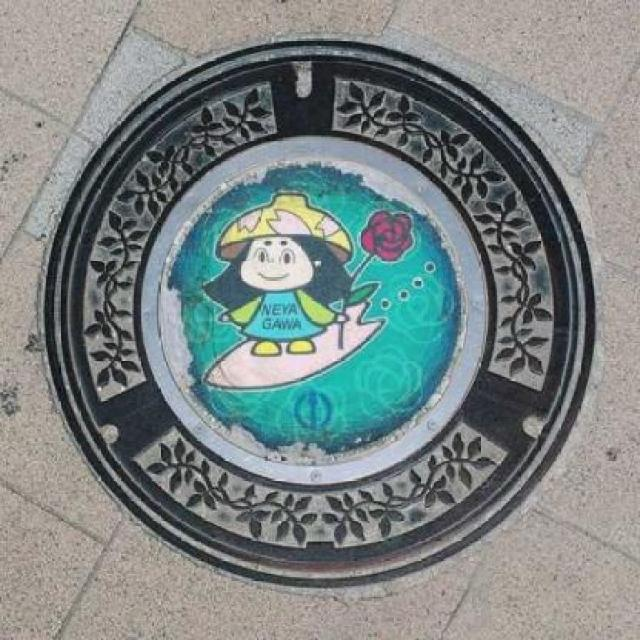Manhole: (25, 25, 632, 624)
